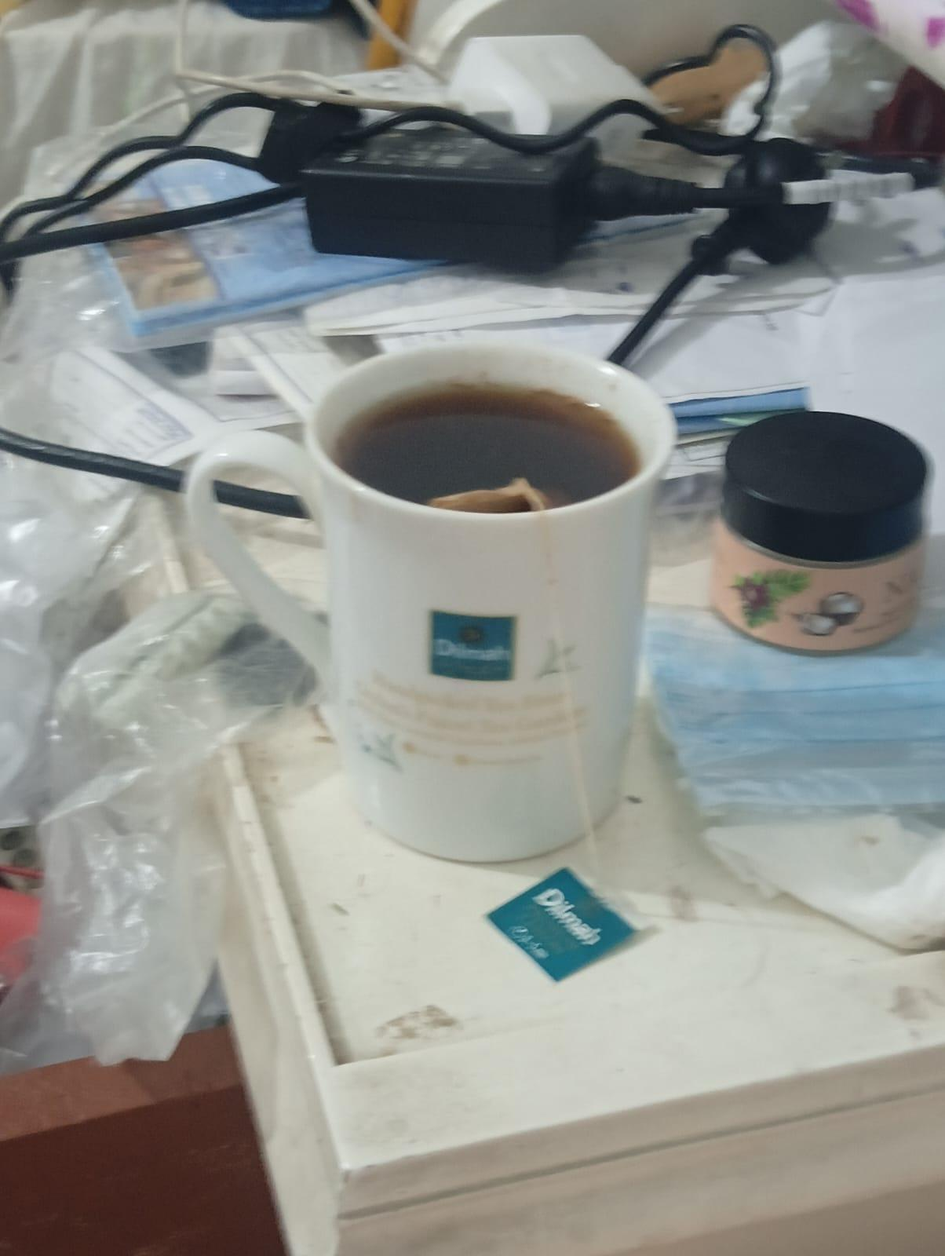cup: (188, 345, 674, 860)
